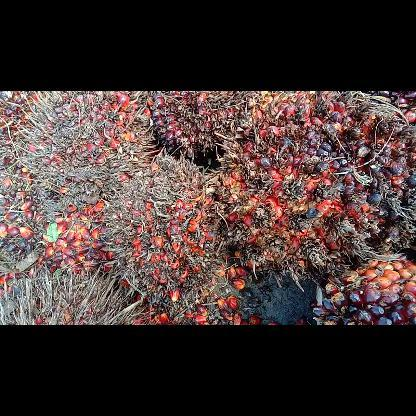Terlalu masak: (211, 90, 415, 290), (95, 147, 239, 311), (10, 91, 162, 219), (143, 90, 280, 156), (313, 252, 415, 324)
